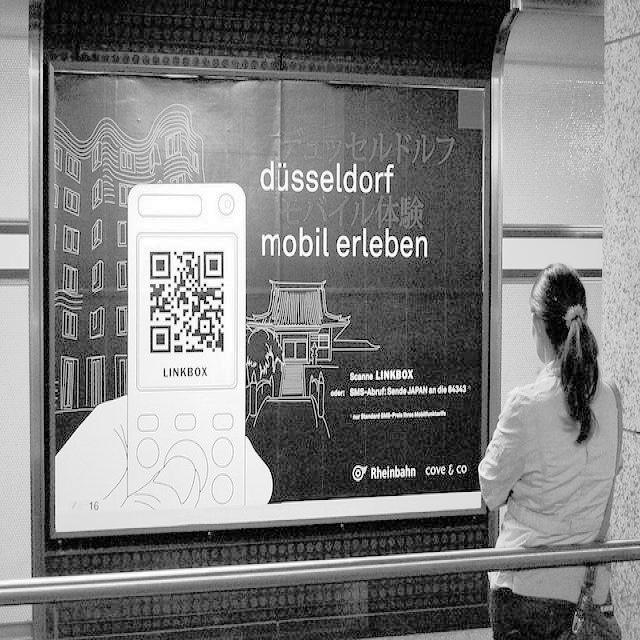qr_code: (150, 251, 223, 352)
